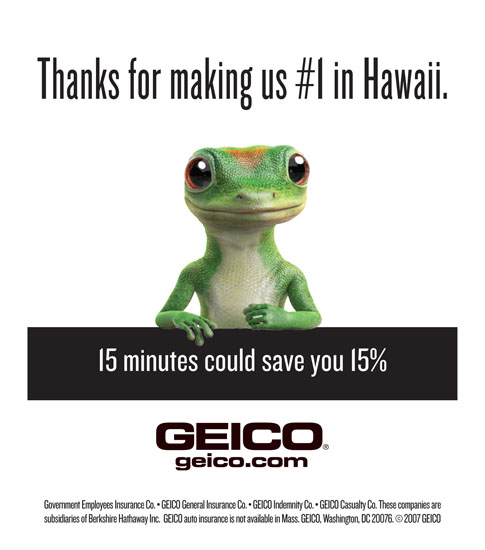Geico: (155, 419, 334, 452)
